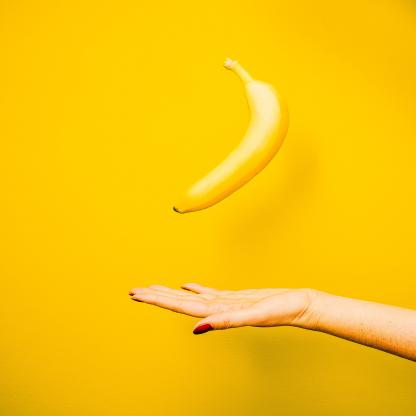banana: (167, 58, 294, 231)
